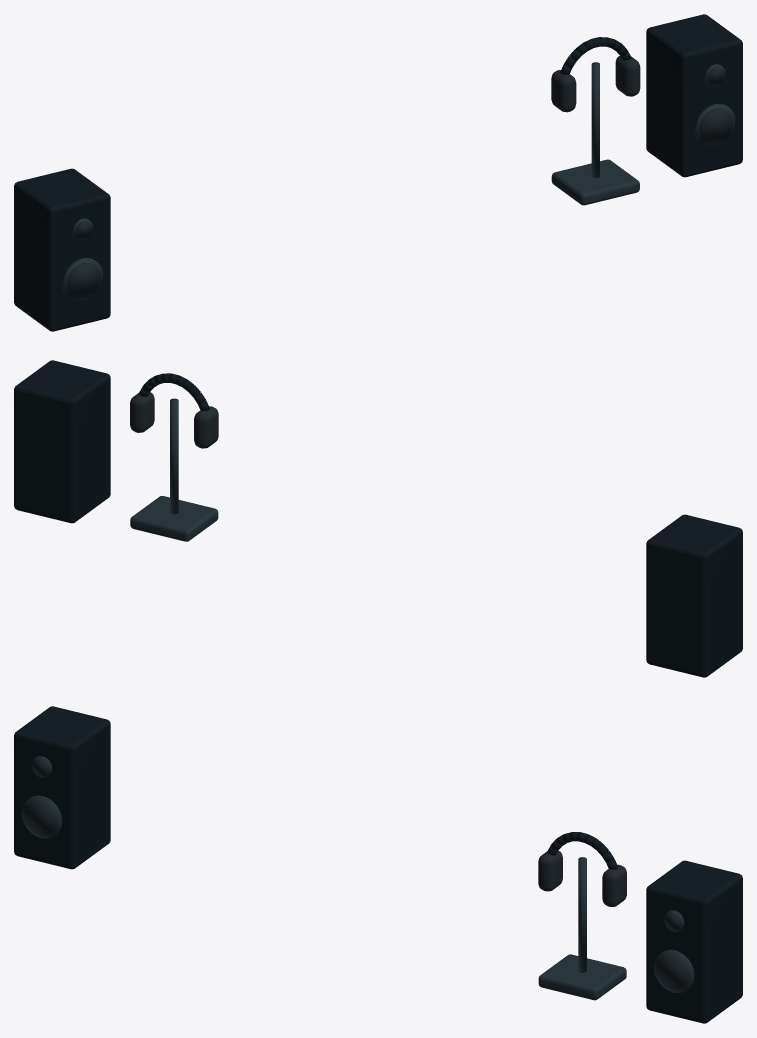
File: audio_accessories.glb
3 renders of one model, top to bottom at view 1: azimuth 30°, elevation 25°; view 2: azimuth 150°, elevation 25°; view 3: azimuth 330°, elevation 25°, orthographic.
Parts seen in each view (by area): view 1: audio_accessories_Mesh; view 2: audio_accessories_Mesh; view 3: audio_accessories_Mesh.
Part boxes in pixels (x1,y1,x2,y2): audio_accessories_Mesh: [14, 14, 742, 331]; audio_accessories_Mesh: [14, 360, 742, 677]; audio_accessories_Mesh: [14, 706, 742, 1023].
Bounding box in the file's own units: 1.51 × 0.3135 × 0.1575.
